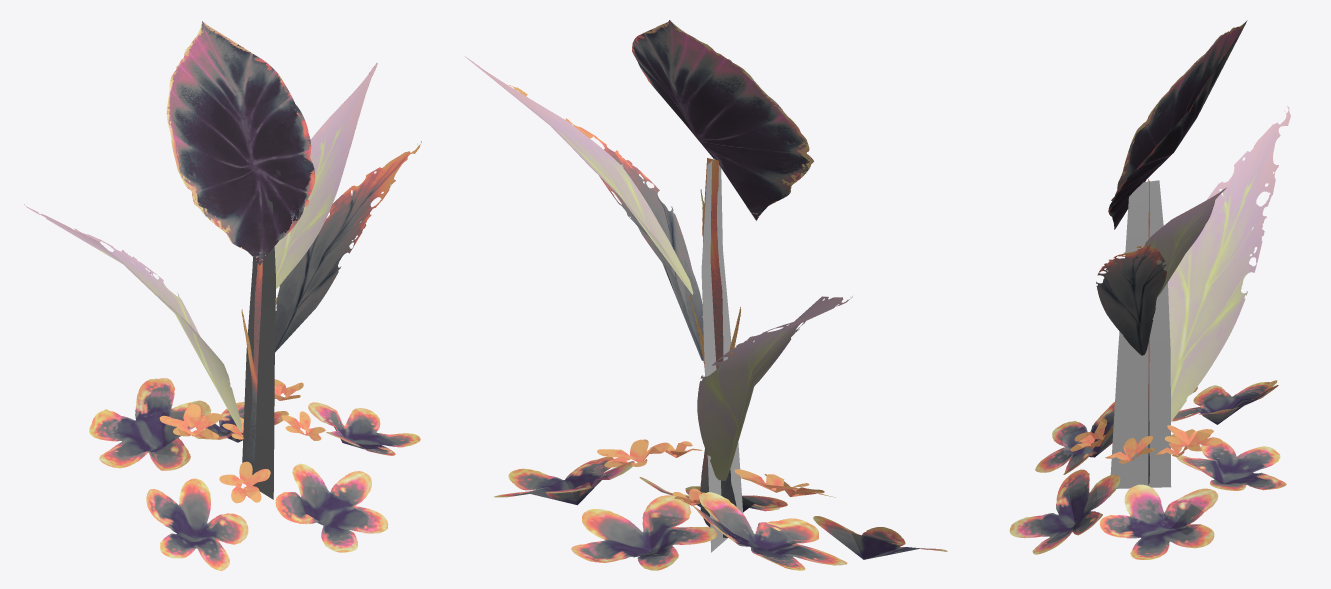
The picture shows the model from 3 angles, left to right: view 1: azimuth 30°, elevation 25°; view 2: azimuth 150°, elevation 25°; view 3: azimuth 270°, elevation 25°; orthographic projection. The views are drawn at different scales.
Visible parts, largest first — view 1: C01_2; view 2: C01_2; view 3: C01_2.
Part boxes in pixels (x1,y1,x2,y2): C01_2: (24, 21, 421, 570); C01_2: (464, 20, 947, 570); C01_2: (1009, 20, 1290, 559).
Size of the model in its own units: 677 by 856 by 477.
